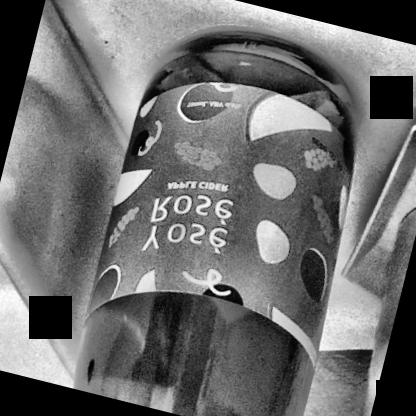yoserose: (90, 63, 372, 362)
